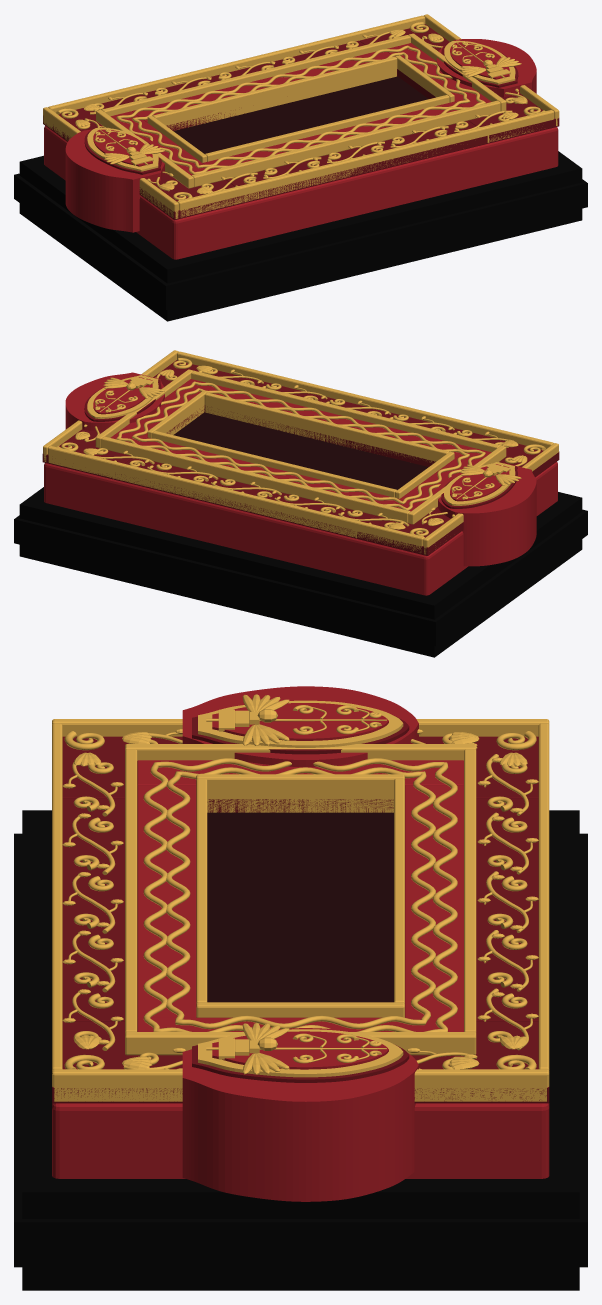
File: tombol.fbx
The picture shows the model from 3 angles, top to bottom: view 1: azimuth 30°, elevation 25°; view 2: azimuth 150°, elevation 25°; view 3: azimuth 270°, elevation 25°; orthographic projection. The views are drawn at different scales.
Parts seen in each view (by area): view 1: Cube.001, RG_Body, RG_OuterLip, RG_Plate, RG_InnerLip, RG_StepRing, RG_Panel, RG_EarL, RG_Plateau, RG_WaveMoulding, RG_Scrollwork, RG_EarR (+8 smaller); view 2: Cube.001, RG_Body, RG_OuterLip, RG_StepRing, RG_InnerLip, RG_Plate, RG_Panel, RG_EarL, RG_Plateau, RG_WaveMoulding, RG_Scrollwork, RG_EarR (+7 smaller); view 3: Cube.001, RG_Panel, RG_Plate, RG_EarR, RG_Plateau, RG_OuterLip, RG_Body, RG_InnerLip, RG_WaveMoulding, RG_StepRing, RG_Scrollwork, RG_EarL (+11 smaller).
Boxes of the visible parts, x1,y1,x2,y2 form: Cube.001: (14,151,587,321); RG_Body: (44,126,558,259); RG_OuterLip: (43,14,559,218); RG_Plate: (43,24,559,219); RG_InnerLip: (147,55,454,162); RG_StepRing: (96,33,506,188); RG_Panel: (173,76,428,153); RG_EarL: (65,129,164,232); RG_Plateau: (110,43,491,175); RG_WaveMoulding: (116,45,485,174); RG_Scrollwork: (56,22,545,200); RG_EarR: (436,39,536,97); Cube.001: (14,487,587,657); RG_Body: (44,462,557,595); RG_OuterLip: (43,350,558,554); RG_StepRing: (95,369,506,524); RG_InnerLip: (147,391,454,498); RG_Plate: (42,360,559,555); RG_Panel: (173,412,428,489); RG_EarL: (436,463,536,566); RG_Plateau: (110,379,491,511); RG_WaveMoulding: (116,381,485,510); RG_Scrollwork: (57,358,545,536); RG_EarR: (65,372,164,430); Cube.001: (14,810,587,1290); RG_Panel: (207,812,393,1002); RG_Plate: (52,736,549,1103); RG_EarR: (182,1028,418,1201); RG_Plateau: (137,760,463,1031); RG_OuterLip: (52,719,549,1101); RG_Body: (52,1103,549,1178); RG_InnerLip: (196,774,404,1017); RG_WaveMoulding: (143,758,457,1031); RG_StepRing: (125,744,476,1055); RG_Scrollwork: (64,731,536,1069); RG_EarL: (182,686,418,766).
Bounding box in the file's own units: 316 × 80.02 × 185.
